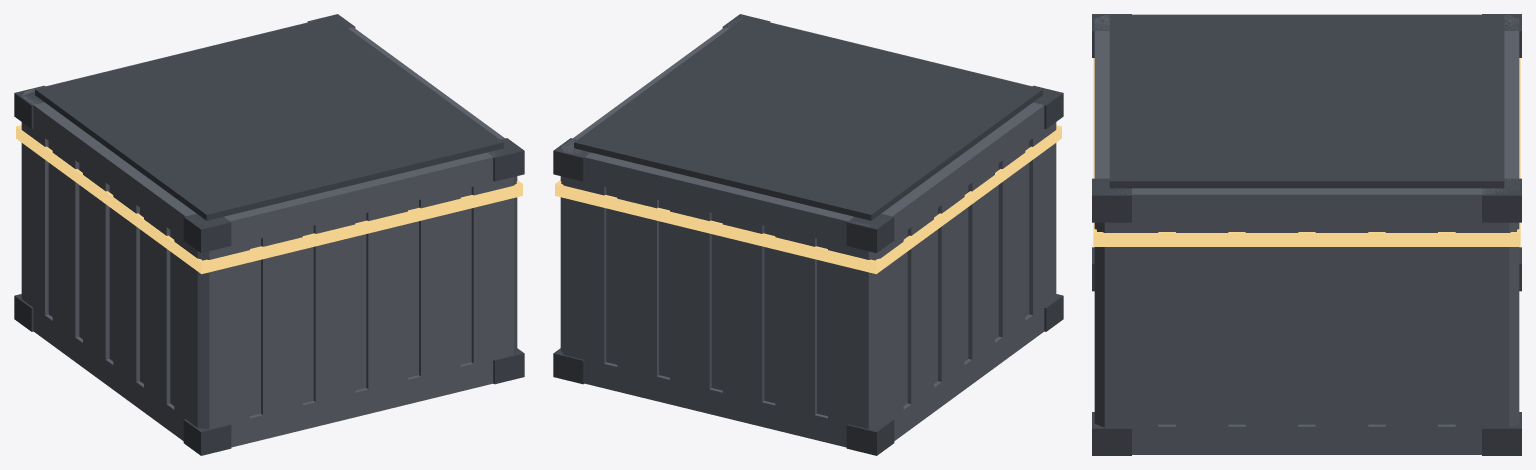
The model's file is crate.glb.
3 renders of one model, left to right at view 1: azimuth 30°, elevation 25°; view 2: azimuth 150°, elevation 25°; view 3: azimuth 270°, elevation 25°, orthographic. The views are drawn at different scales.
Visible parts, largest first — view 1: CrateShell, CrateLid, CrateStripe, CrateCorner-1-11090, CrateCorner-1-160, CrateCorner1-11090, CrateCorner1-160, CrateCorner-111090, CrateCorner-1160; view 2: CrateShell, CrateLid, CrateStripe, CrateCorner-111090, CrateCorner-1160, CrateCorner111090, CrateCorner1160, CrateCorner-1-11090, CrateCorner-1-160; view 3: CrateShell, CrateLid, CrateStripe, CrateCorner1-11090, CrateCorner111090, CrateCorner1-160, CrateCorner1160.
Boxes of the visible parts, x1,y1,x2,y2 form: CrateShell: [21, 18, 517, 447]; CrateLid: [35, 17, 503, 220]; CrateStripe: [16, 125, 522, 274]; CrateCorner-1-11090: [183, 213, 231, 253]; CrateCorner-1-160: [183, 419, 231, 455]; CrateCorner1-11090: [487, 138, 524, 181]; CrateCorner1-160: [493, 348, 524, 384]; CrateCorner-111090: [14, 85, 45, 128]; CrateCorner-1160: [14, 294, 33, 331]; CrateShell: [560, 17, 1056, 447]; CrateLid: [574, 17, 1042, 220]; CrateStripe: [555, 125, 1061, 274]; CrateCorner-111090: [846, 213, 894, 253]; CrateCorner-1160: [846, 419, 894, 455]; CrateCorner111090: [553, 138, 590, 181]; CrateCorner1160: [553, 348, 584, 384]; CrateCorner-1-11090: [1032, 85, 1063, 128]; CrateCorner-1-160: [1044, 294, 1063, 331]; CrateShell: [1094, 15, 1519, 454]; CrateLid: [1109, 14, 1504, 188]; CrateStripe: [1093, 58, 1520, 246]; CrateCorner1-11090: [1092, 178, 1131, 222]; CrateCorner111090: [1482, 178, 1521, 222]; CrateCorner1-160: [1092, 412, 1131, 455]; CrateCorner1160: [1482, 412, 1521, 455].
Size of the model in its own units: 1.72 by 1.18 by 1.72.
